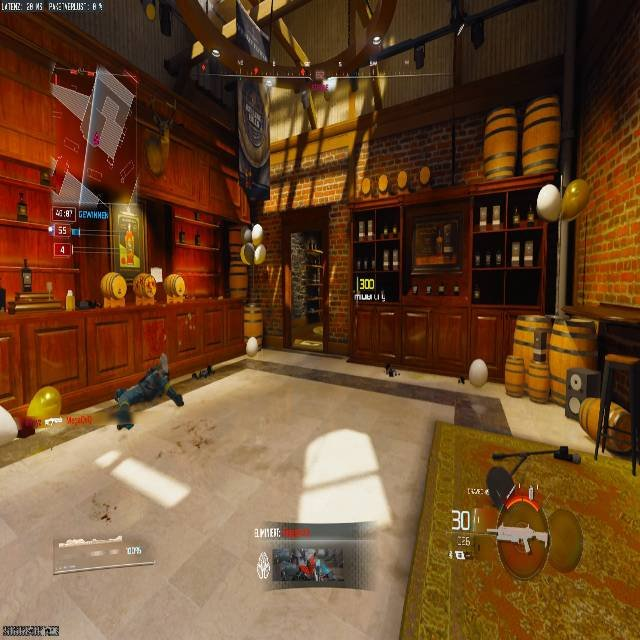player: (480, 462, 585, 577), (110, 356, 186, 433)
